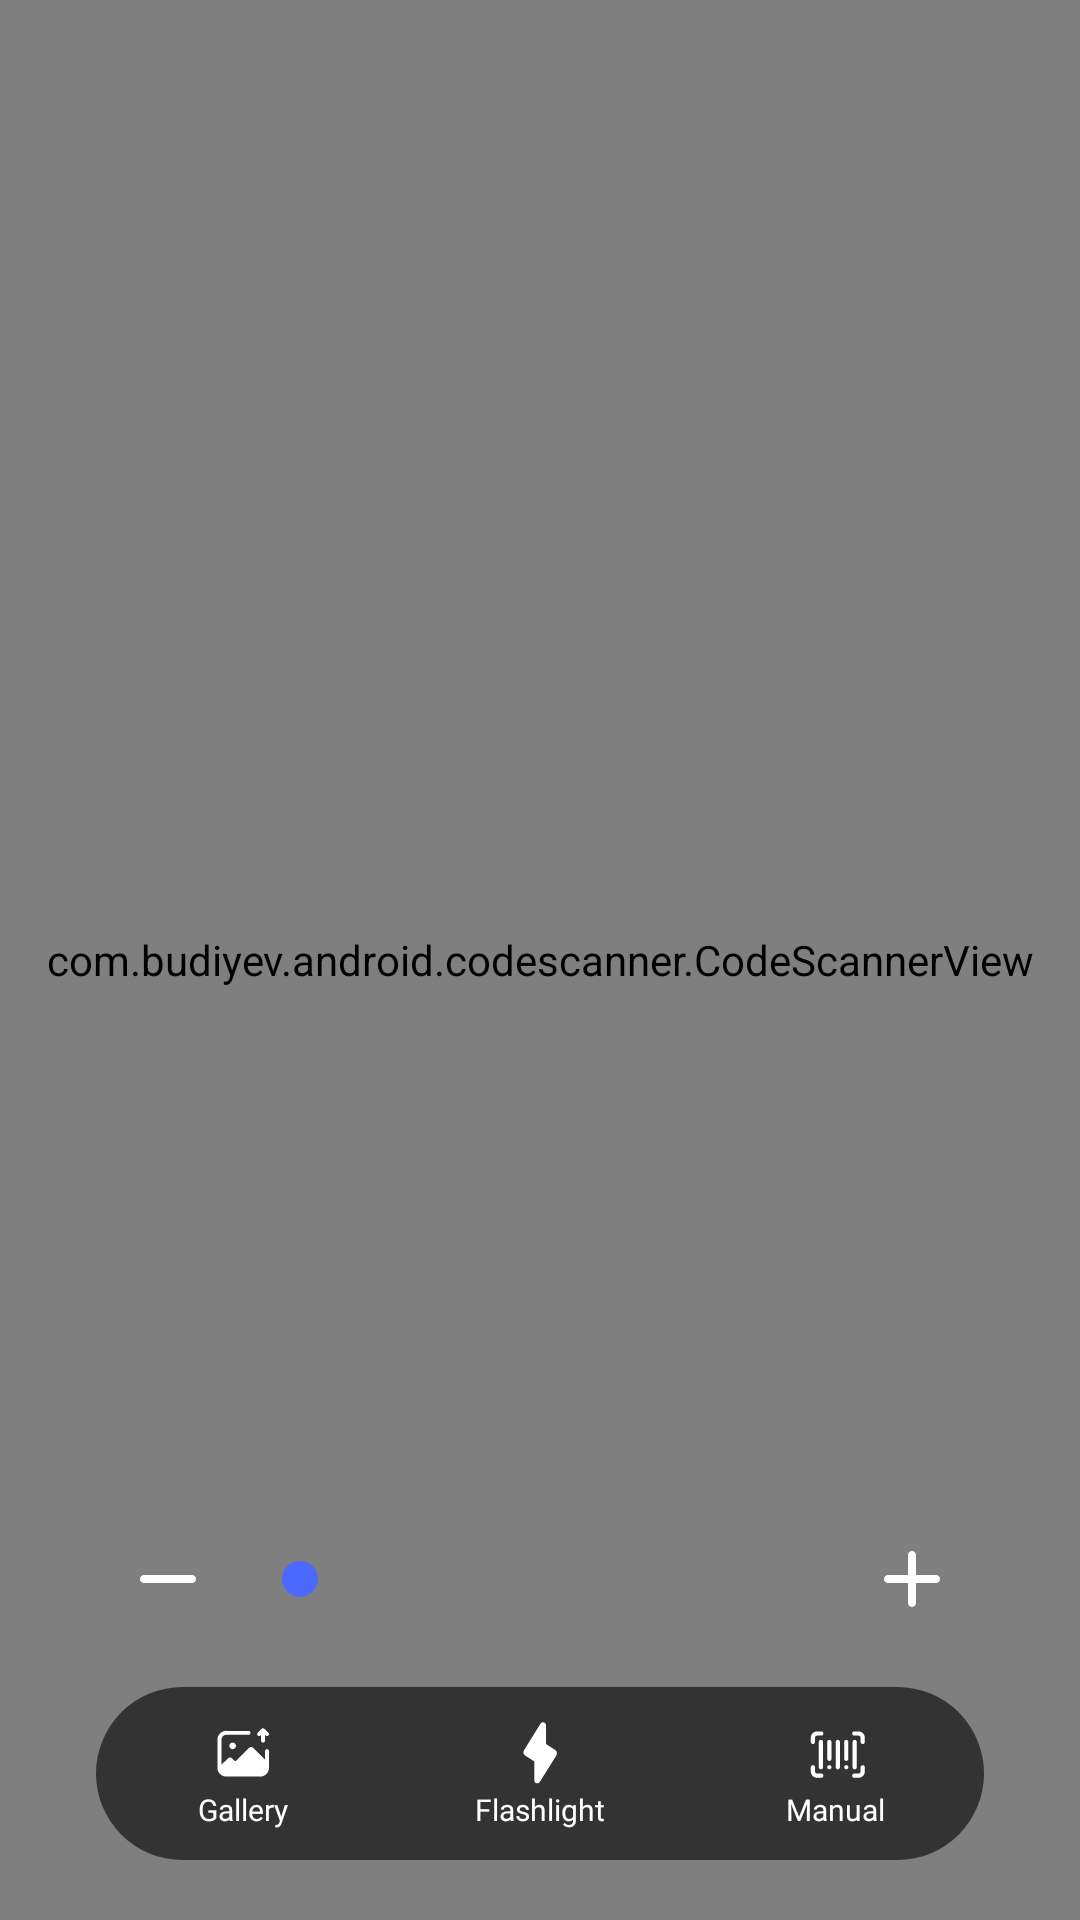

Named icons in this screenshot (1080 x 1920) and their bounding boxes, bbox=(x1, y1, x2, y2):
plus: bbox=(884, 1551, 940, 1607)
